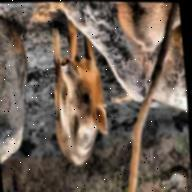boar: (32, 31, 117, 166)
